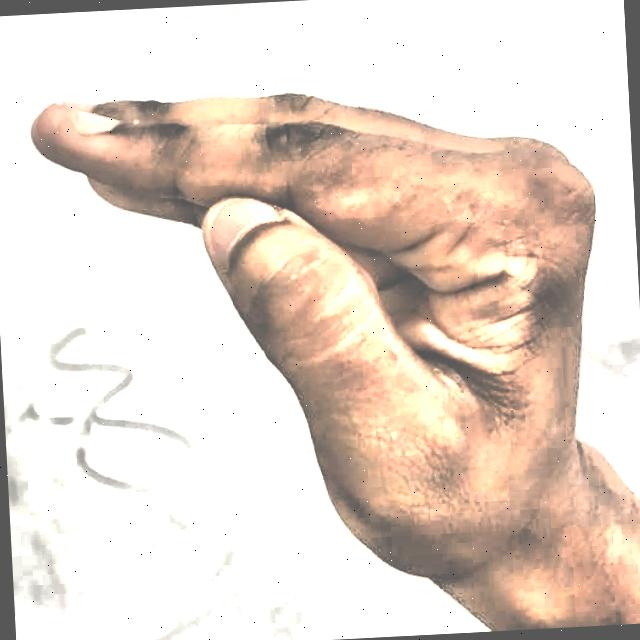Ga: (13, 20, 640, 622)
